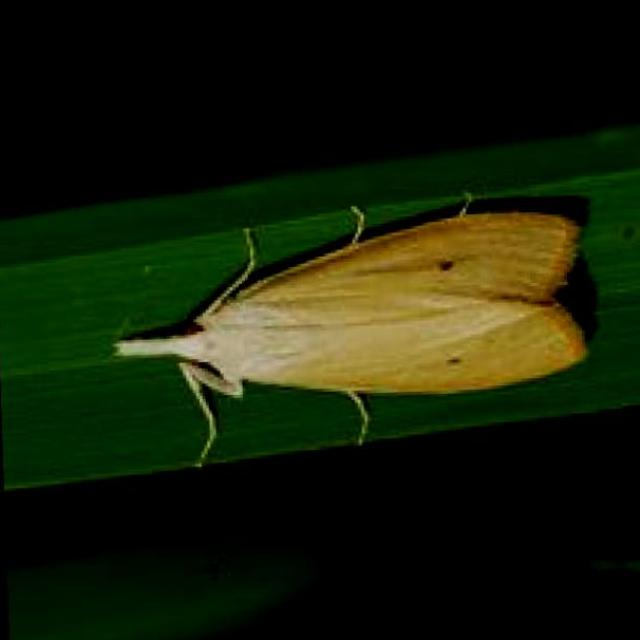stem borer: (115, 191, 584, 465)
